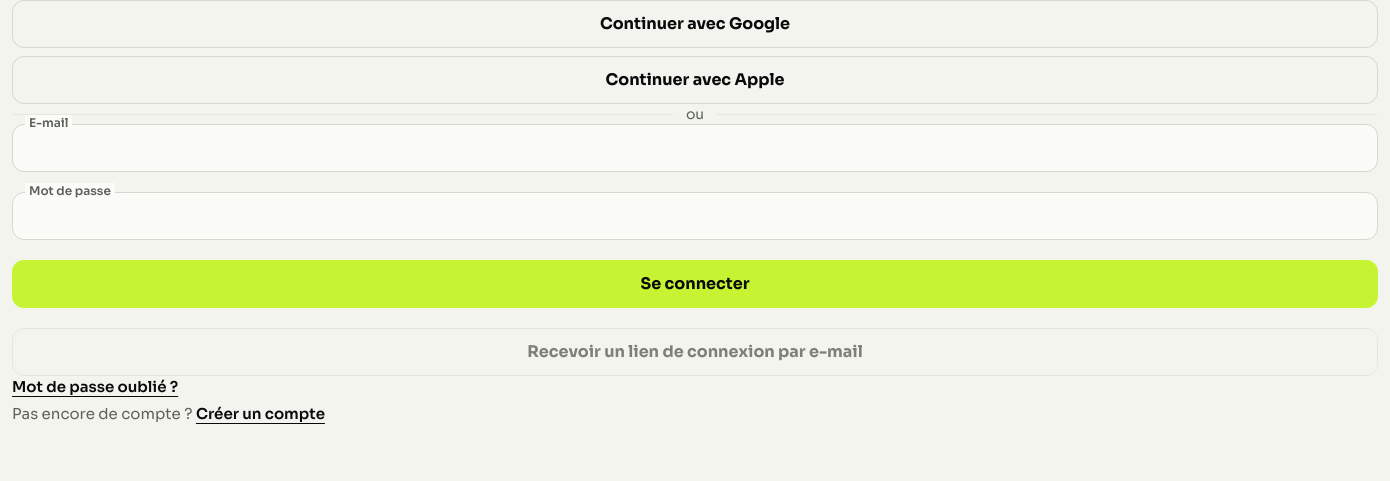
Scenario: connexion › lien magique : message neutre
Type "awa@test.cm" into the field labelled "E-mail".
click(695, 148); type("awa@test.cm")  # box [13, 125, 1377, 171]
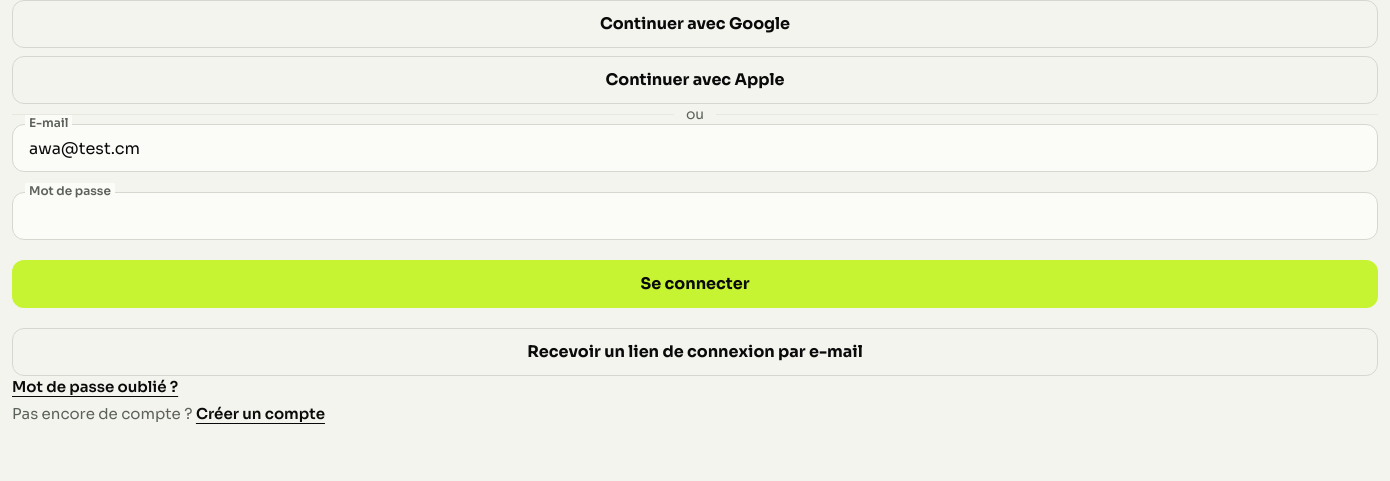
Click the button "Recevoir un lien de connexion par e-mail".
click(695, 352)  # box [12, 328, 1378, 376]
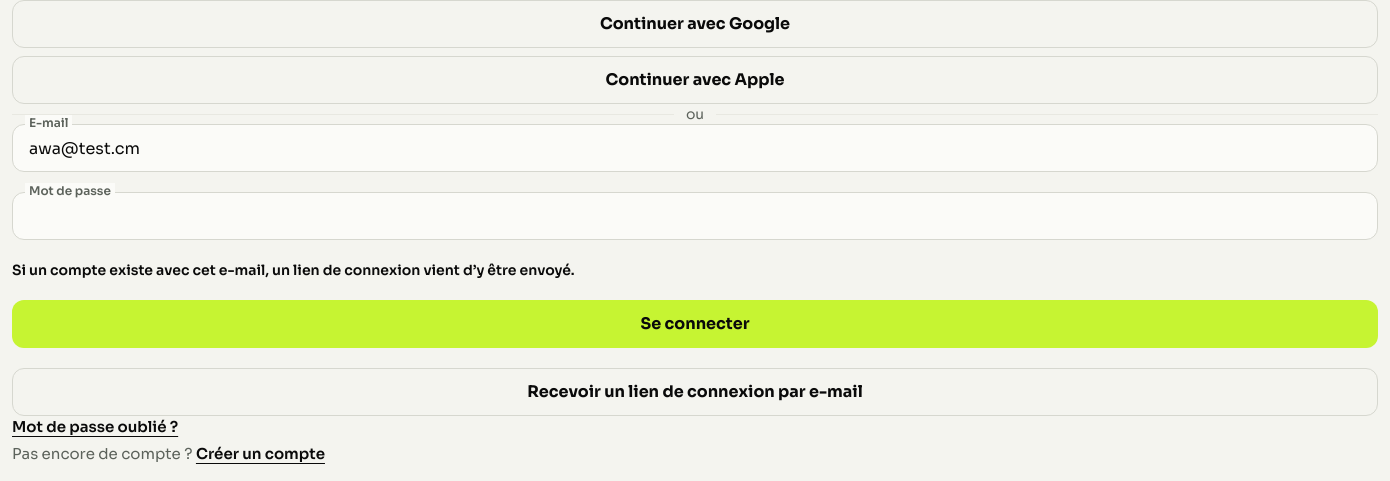
Expected: the message reads "Si un compte existe avec cet e-mail, un lien de connexion vient d’y être envoyé.", [12, 261, 575, 279]
